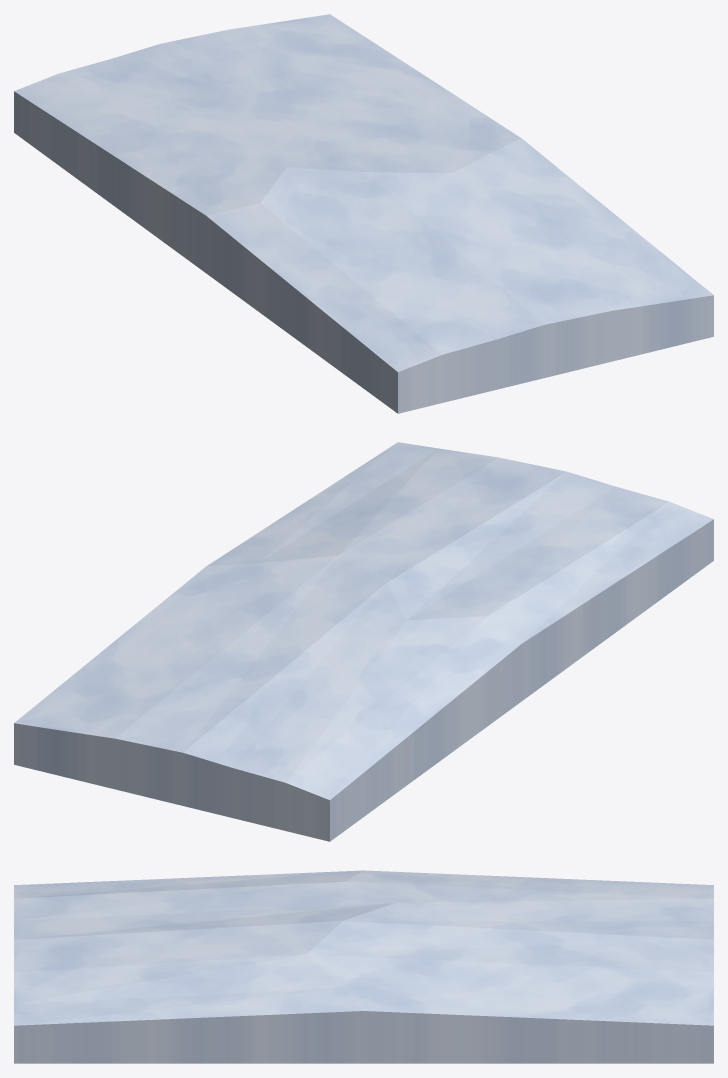
Rendered from snow_stair_edge.glb.
3 views of the same model, one above another, from view 1: azimuth 30°, elevation 25°; view 2: azimuth 150°, elevation 25°; view 3: azimuth 270°, elevation 25° (orthographic). The views are drawn at different scales.
Parts seen in each view (by area): view 1: winter_snow_stair_edge; view 2: winter_snow_stair_edge; view 3: winter_snow_stair_edge.
Boxes of the visible parts, x1=… form: winter_snow_stair_edge: x1=14, y1=14, x2=713, y2=413; winter_snow_stair_edge: x1=14, y1=442, x2=713, y2=841; winter_snow_stair_edge: x1=14, y1=870, x2=713, y2=1063.
Bounding box in the file's own units: 0.38 × 0.085 × 0.8.
Materials: 1 (1 with a texture image).
